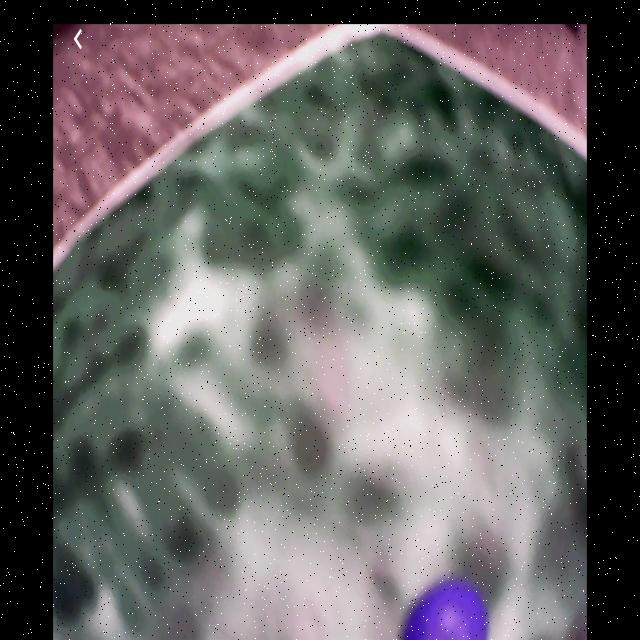ball: (400, 577, 488, 640)
